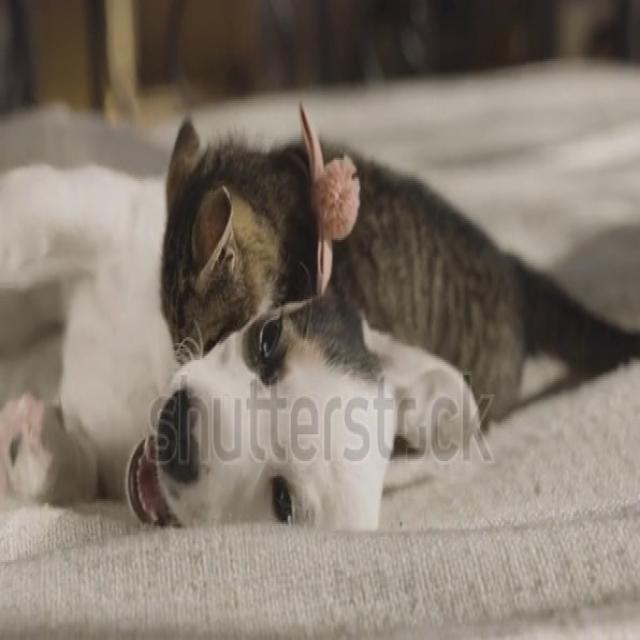normal_animals: (113, 218, 472, 622), (136, 92, 415, 426)
